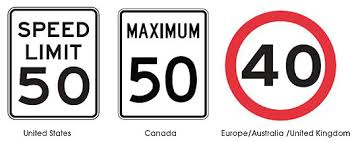sp40: (234, 15, 333, 112)
sp50: (128, 43, 198, 110), (12, 59, 96, 112)
